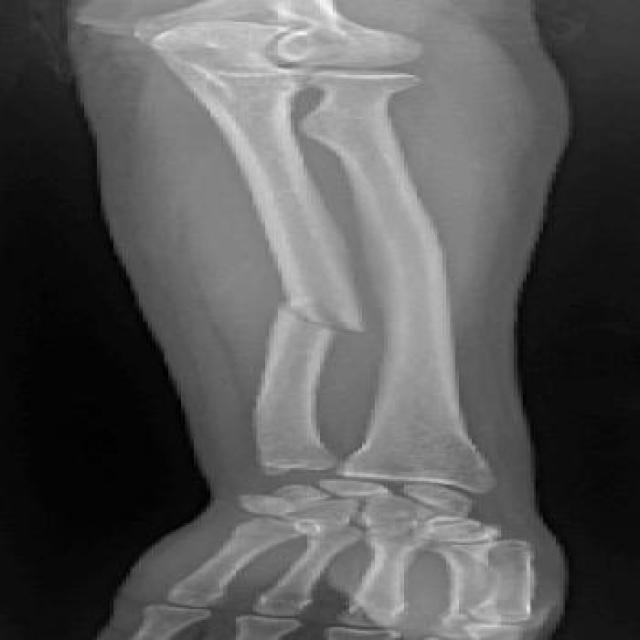Fracture: (260, 291, 368, 338)
